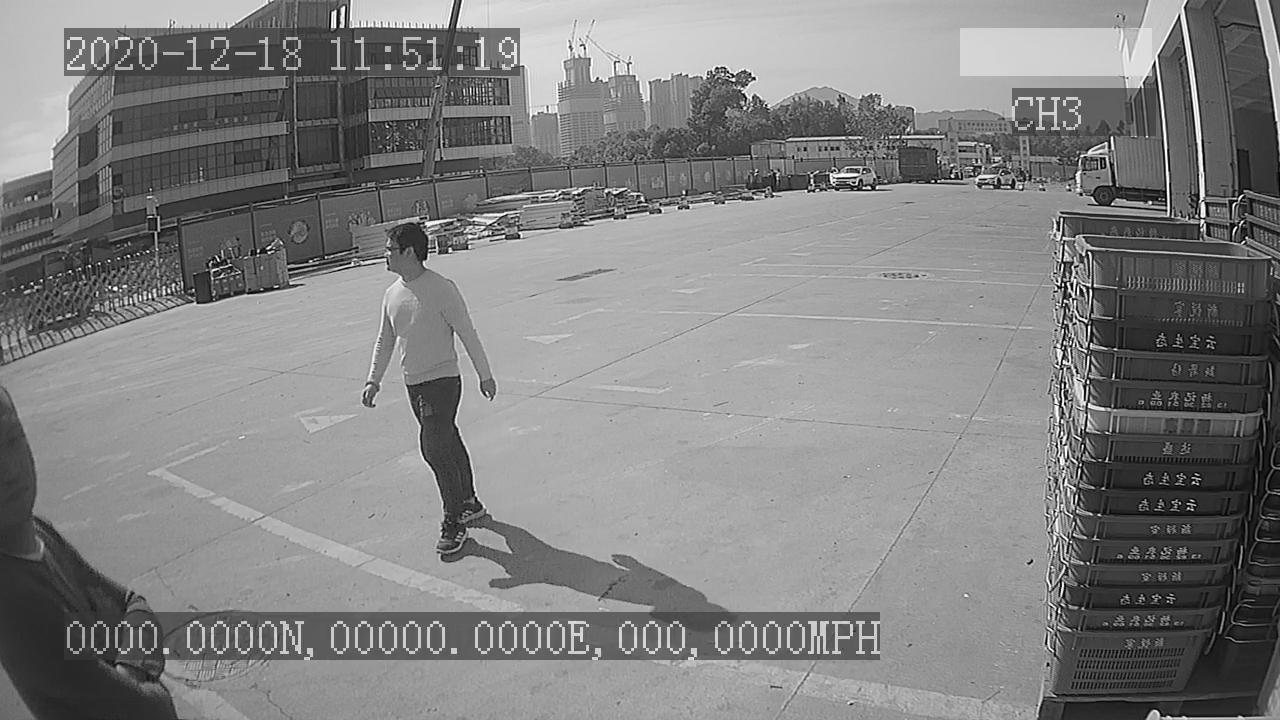person: (356, 219, 501, 565)
